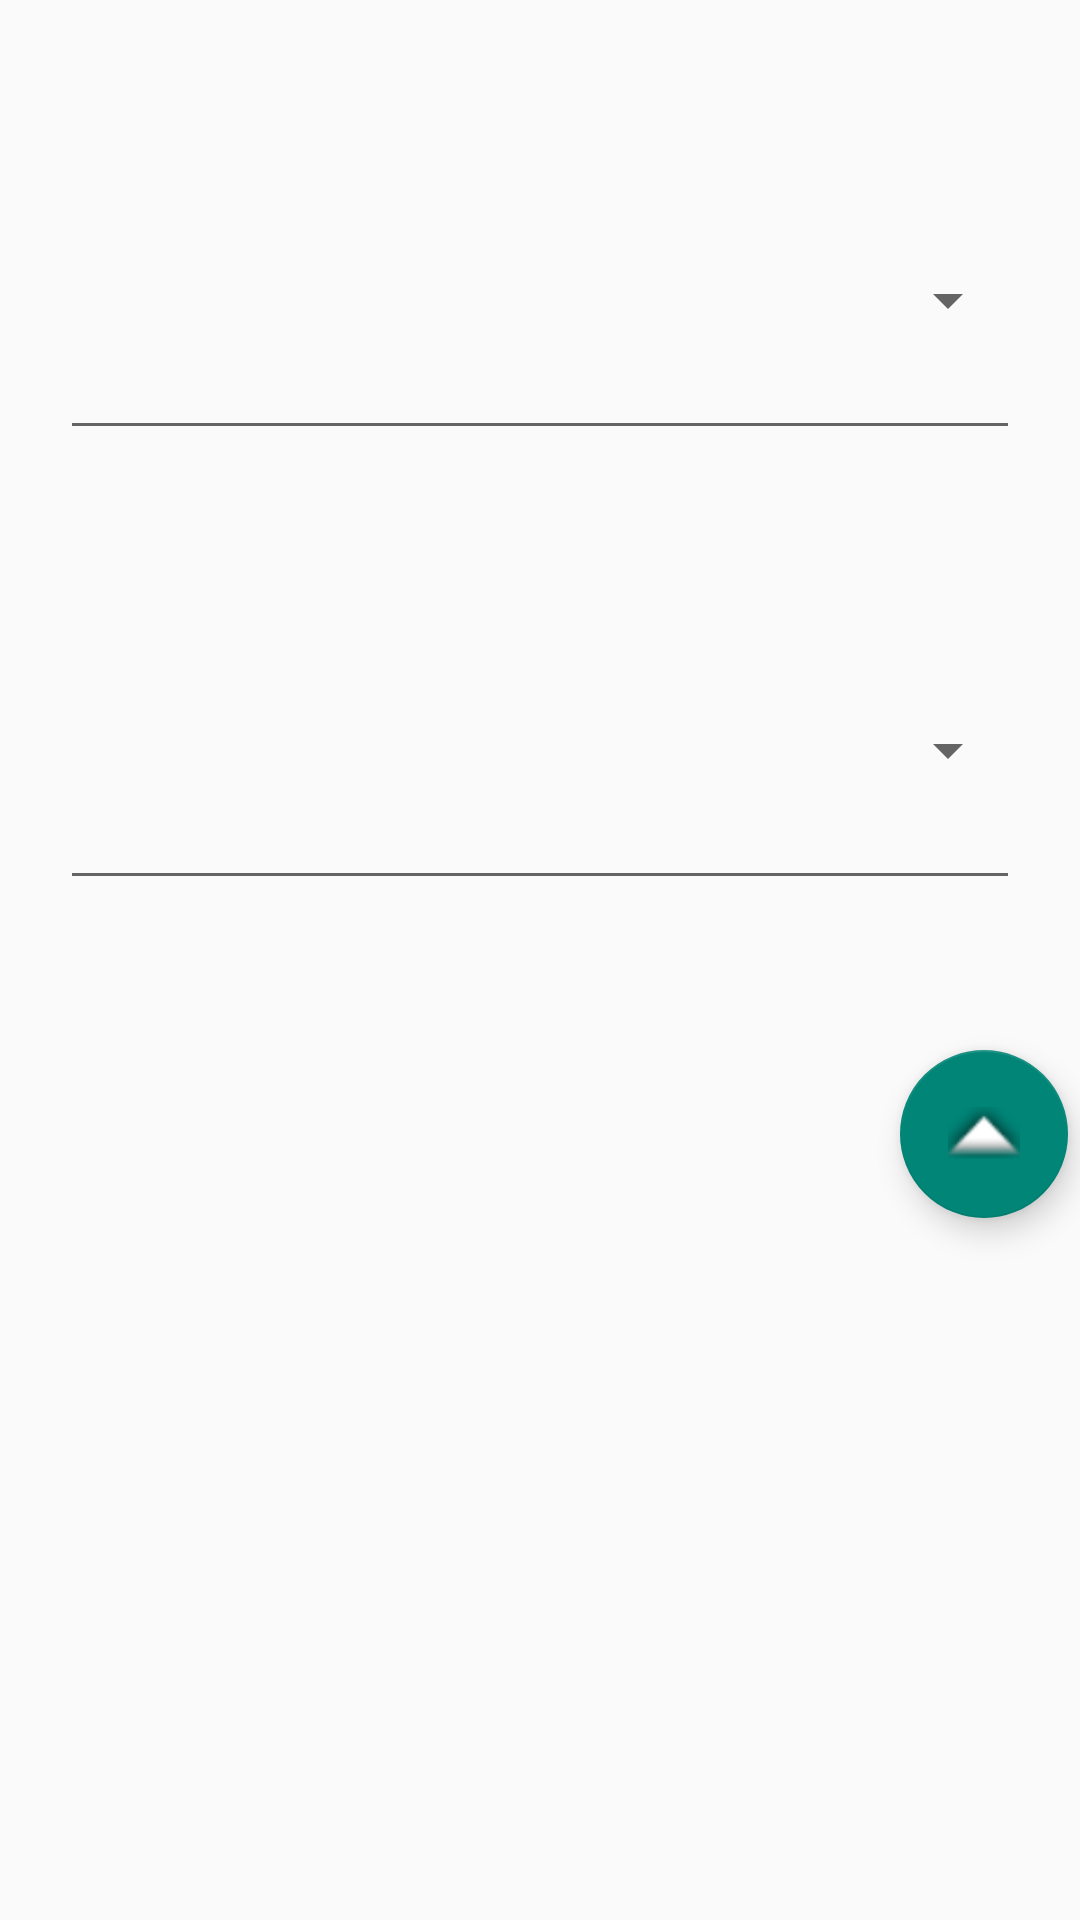

Named icons in this screenshot (1080x1920) and their bounding boxes, bbox(x1, y1, x2, y2):
arrow up float: bbox(900, 1050, 1068, 1218)
